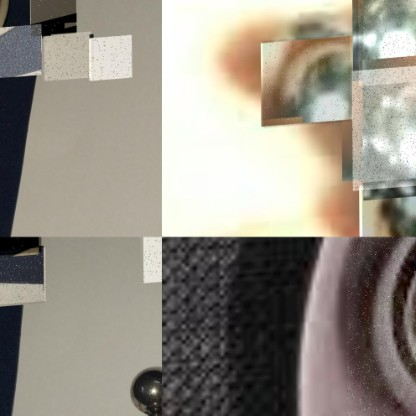ironball: (345, 236, 415, 415), (351, 67, 415, 195), (262, 37, 349, 130), (357, 0, 415, 90), (361, 179, 415, 236), (126, 361, 162, 415)
